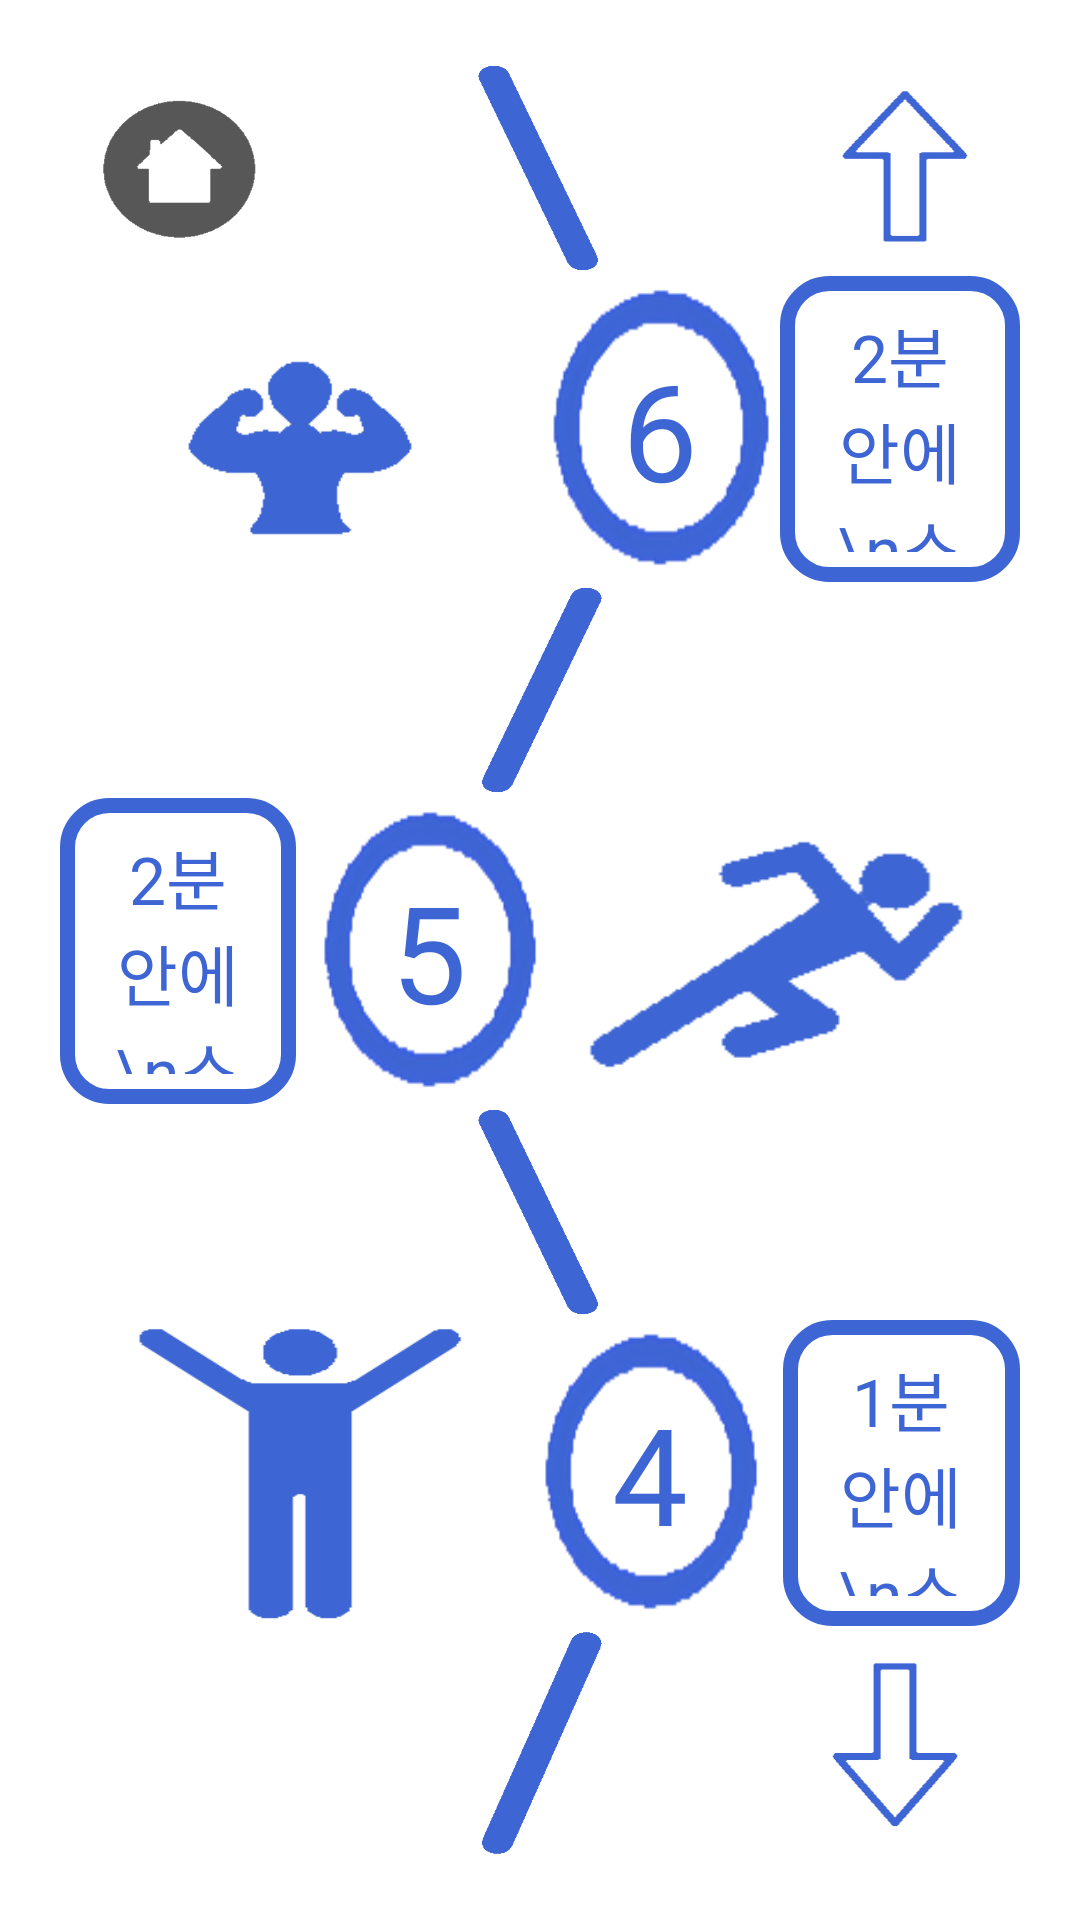

Point at icon controls on the screen. Image size 1080×1920, points as (x,y).
down: (895,1744)
home: (179,169)
